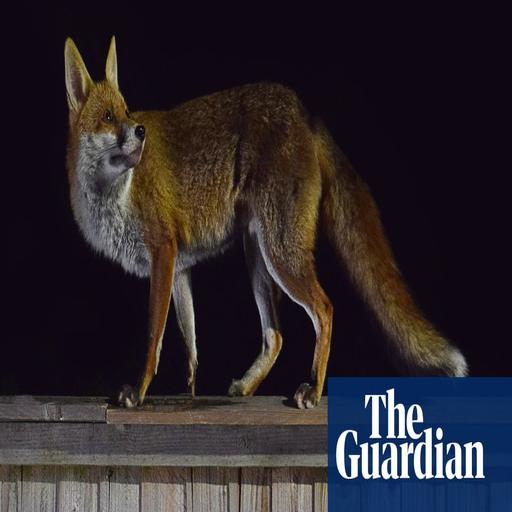Fox: (59, 30, 474, 415)
